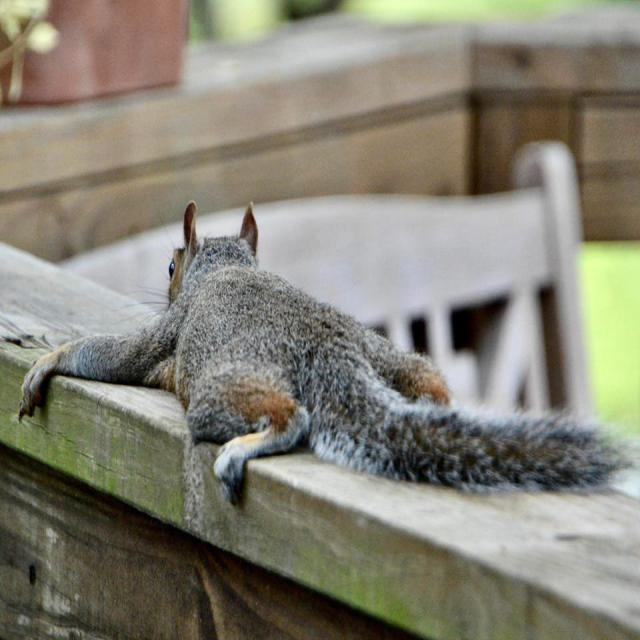Squirrel: (16, 210, 628, 505)
